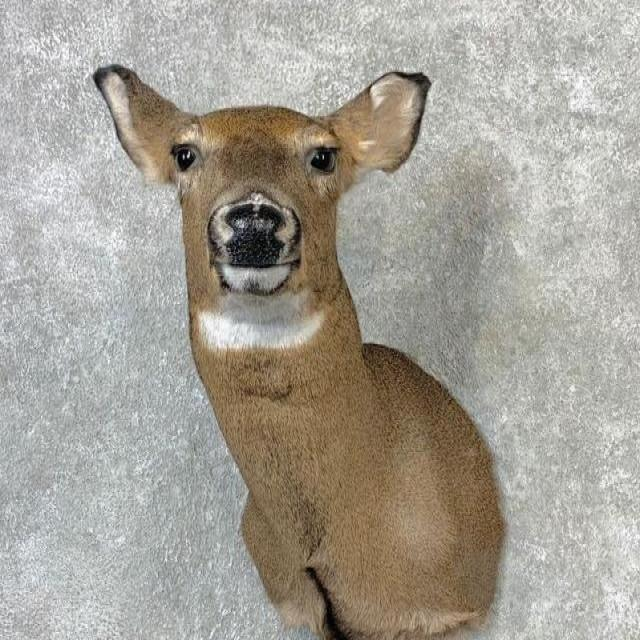deer: (94, 67, 498, 638)
